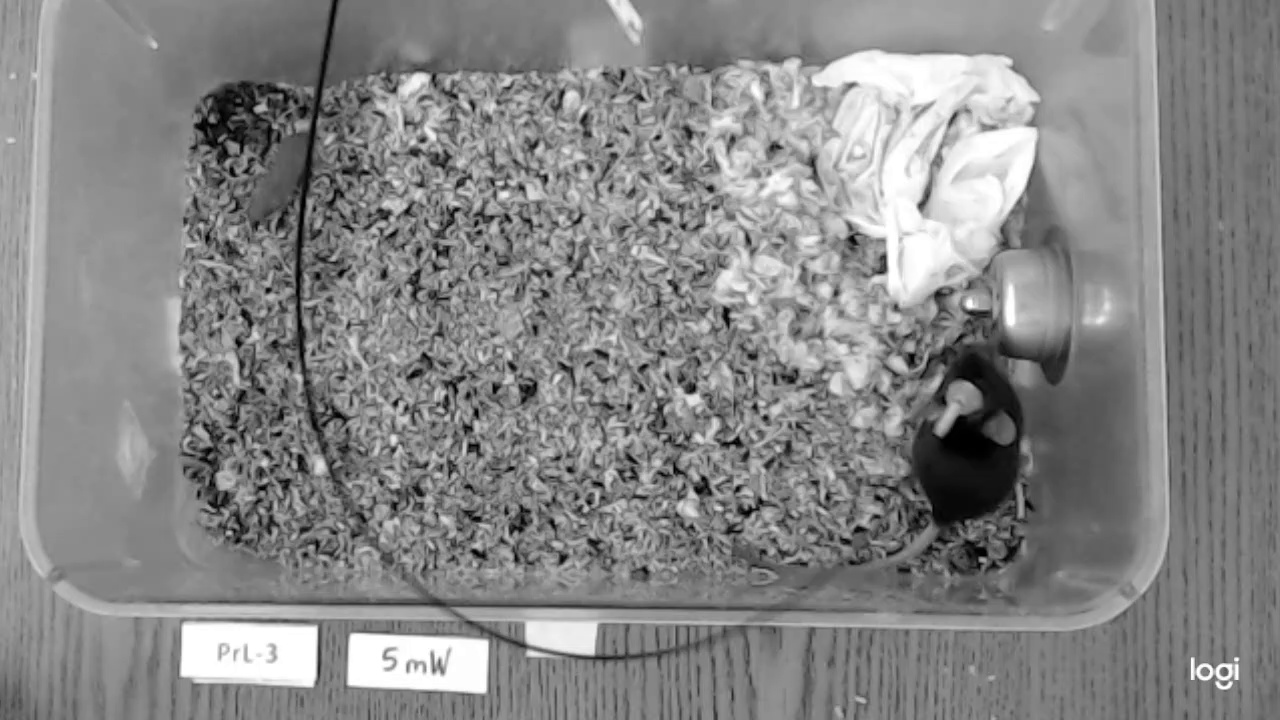child-mice: (241, 130, 309, 224)
